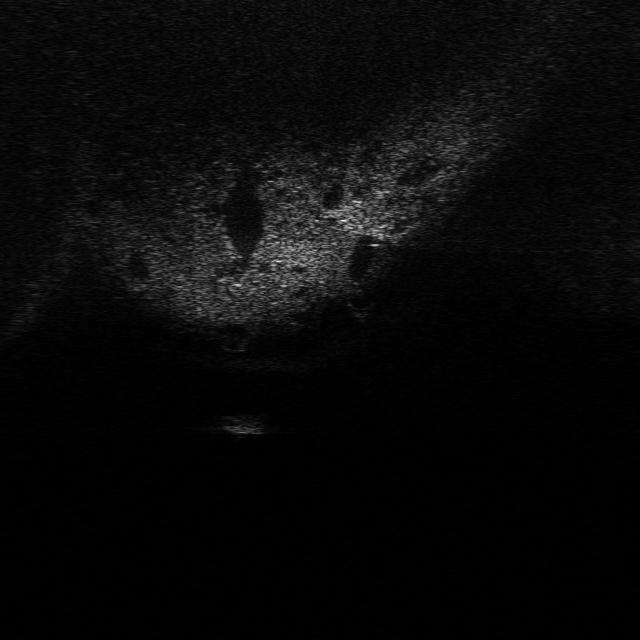ball: (338, 284, 382, 318)
cube: (220, 407, 270, 439)
